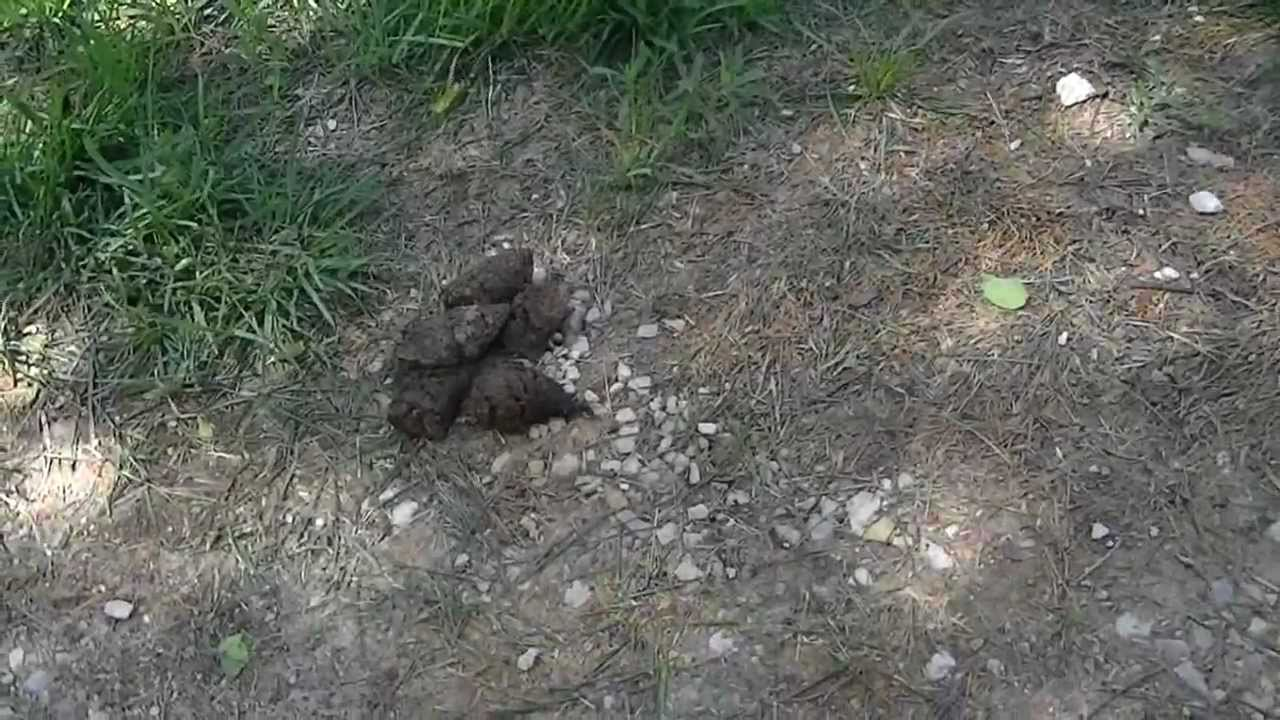Dog: (396, 251, 560, 427)
